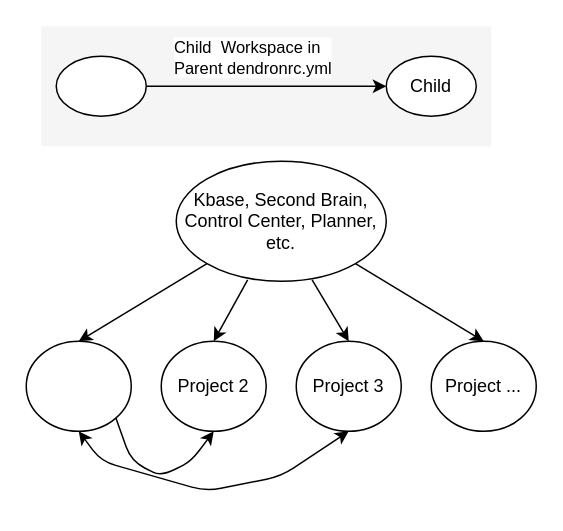
The diagram is 563 pixels wide and 531 high, and some of its shapes have lost their labels. Each missing label, with the centre of its shape:
Parent: the point at 100,85
Project 1: the point at 78,385
